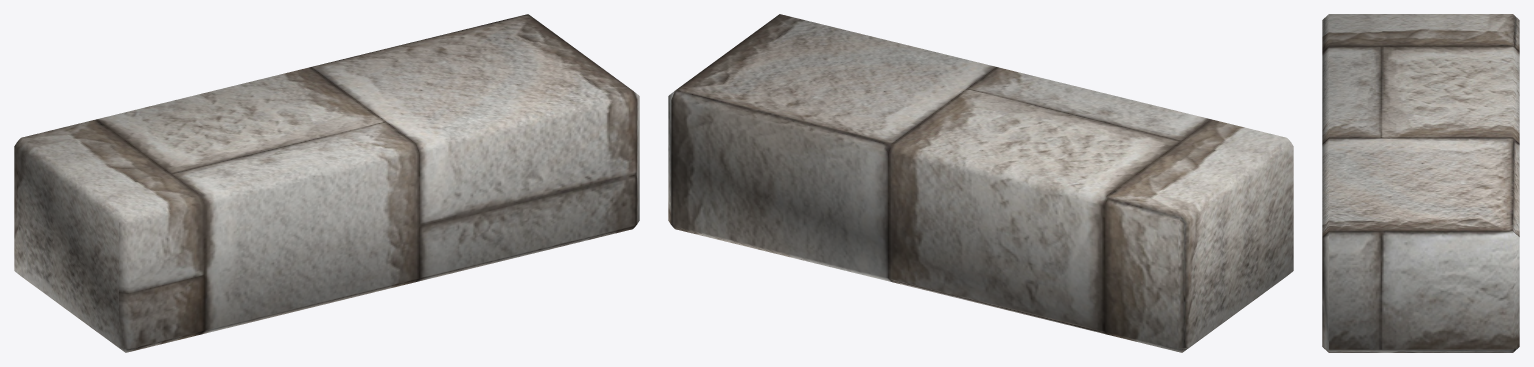
The model's file is Brick_A.fbx.
The picture shows the model from 3 angles, left to right: view 1: azimuth 30°, elevation 25°; view 2: azimuth 150°, elevation 25°; view 3: azimuth 270°, elevation 25°; orthographic projection. The views are drawn at different scales.
Visible parts, largest first — view 1: pCube11; view 2: pCube11; view 3: pCube11.
Part boxes in pixels (<box>): pCube11: <box>14,14,639,352</box>; pCube11: <box>668,14,1293,352</box>; pCube11: <box>1322,14,1519,352</box>.
Size of the model in its own units: 3.51 by 0.8923 by 1.31.
